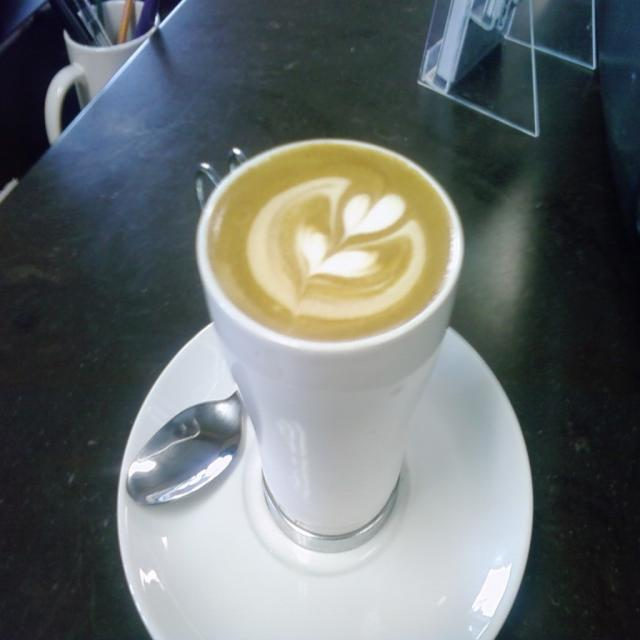Coffee: (206, 142, 456, 342)
